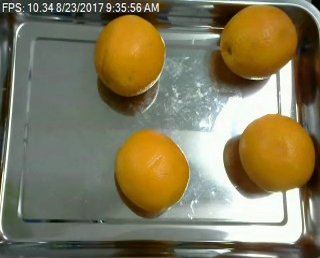Orange: (237, 113, 317, 190), (116, 130, 190, 213), (219, 4, 298, 80), (94, 13, 166, 95)
